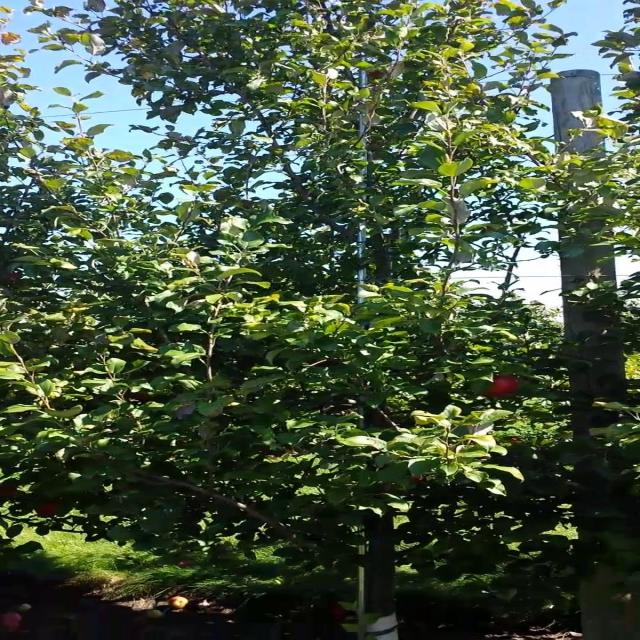apple: (483, 376, 521, 399), (35, 500, 62, 519), (6, 488, 21, 499), (369, 72, 386, 80), (412, 476, 425, 484)
